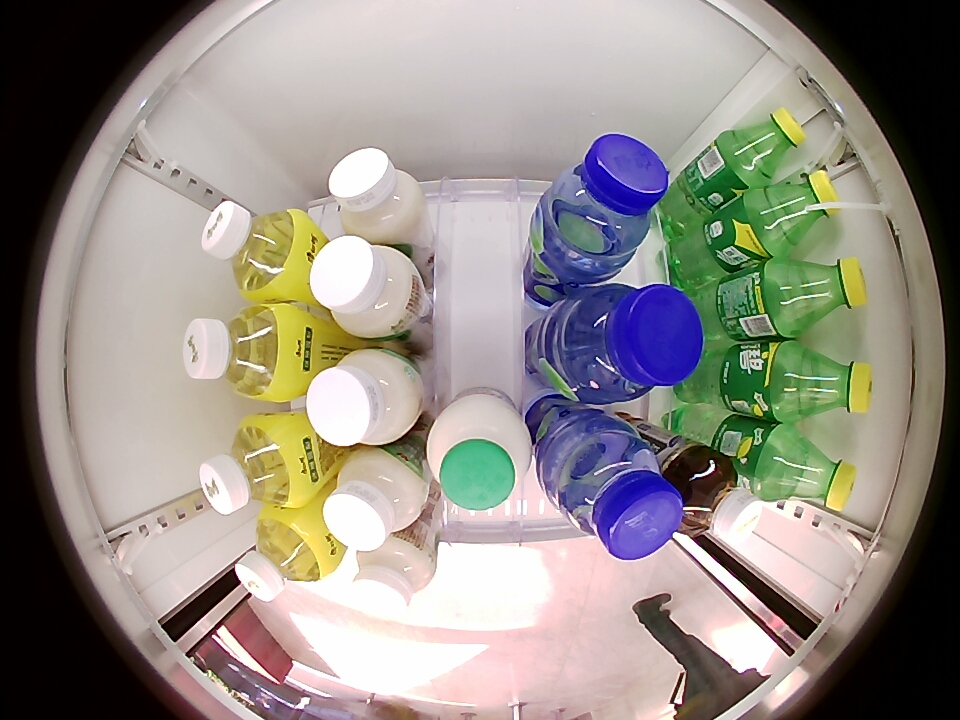bingtangxueli: (183, 303, 304, 402), (201, 200, 314, 301), (199, 415, 310, 515), (235, 509, 336, 602)
liziyuan: (427, 392, 532, 512)
maidong: (556, 283, 703, 402), (554, 430, 684, 562), (545, 134, 670, 262)
wulongcha: (671, 452, 762, 541)
xuebi-b: (772, 430, 857, 512), (758, 170, 840, 249), (786, 256, 866, 329), (791, 346, 872, 418), (730, 107, 806, 180)
yousuanru: (305, 346, 423, 448), (309, 234, 420, 341), (322, 447, 426, 551), (329, 148, 425, 243), (350, 536, 435, 614)
